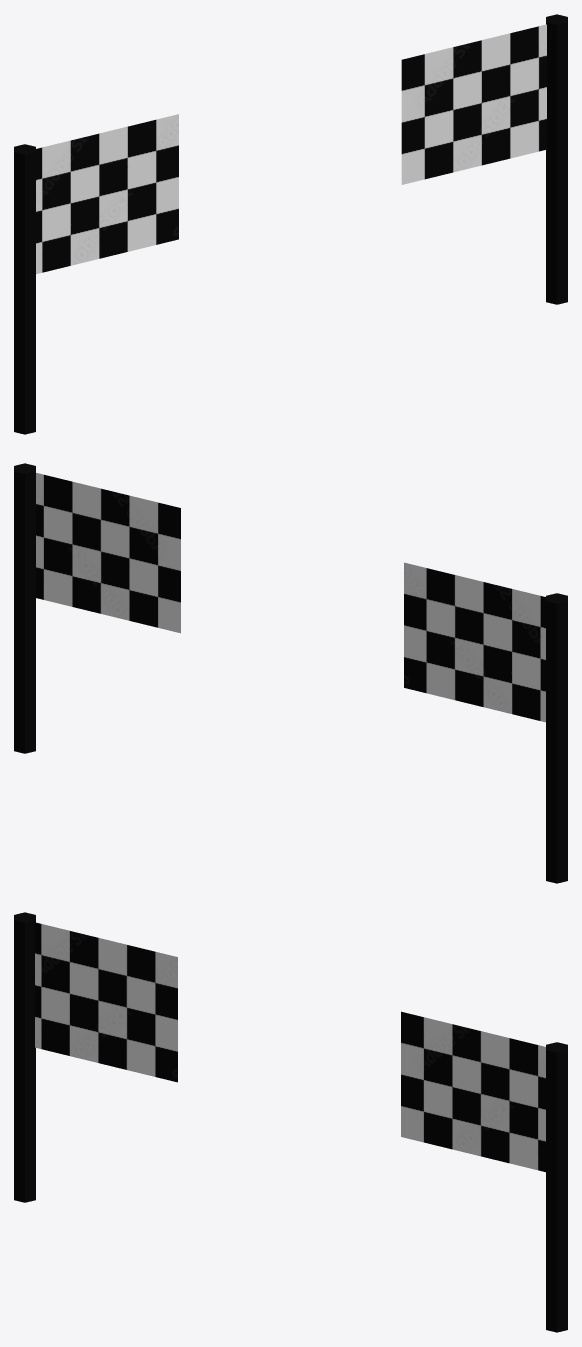
Rendered from Winning_Flag.fbx.
3 renders of one model, top to bottom at view 1: azimuth 30°, elevation 25°; view 2: azimuth 150°, elevation 25°; view 3: azimuth 330°, elevation 25°, orthographic.
Parts seen in each view (by area): view 1: polySurface2, polySurface1, Winning:WinningpCylinder1, Winning:pCylinder2Winning; view 2: polySurface2, polySurface1, Winning:pCylinder2Winning, Winning:WinningpCylinder1; view 3: polySurface2, polySurface1, Winning:pCylinder2Winning, Winning:WinningpCylinder1.
Part boxes in pixels (bbox=[...]): polySurface2: bbox=[401, 24, 546, 184]; polySurface1: bbox=[36, 114, 178, 274]; Winning:WinningpCylinder1: bbox=[14, 144, 35, 434]; Winning:pCylinder2Winning: bbox=[546, 14, 567, 304]; polySurface2: bbox=[36, 473, 180, 633]; polySurface1: bbox=[404, 562, 545, 722]; Winning:pCylinder2Winning: bbox=[14, 463, 35, 753]; Winning:WinningpCylinder1: bbox=[546, 593, 567, 883]; polySurface2: bbox=[401, 1011, 545, 1172]; polySurface1: bbox=[35, 922, 177, 1082]; Winning:pCylinder2Winning: bbox=[546, 1042, 567, 1332]; Winning:WinningpCylinder1: bbox=[14, 912, 35, 1202].
Size of the model in its own units: 17.33 by 8.36 by 0.5933.
